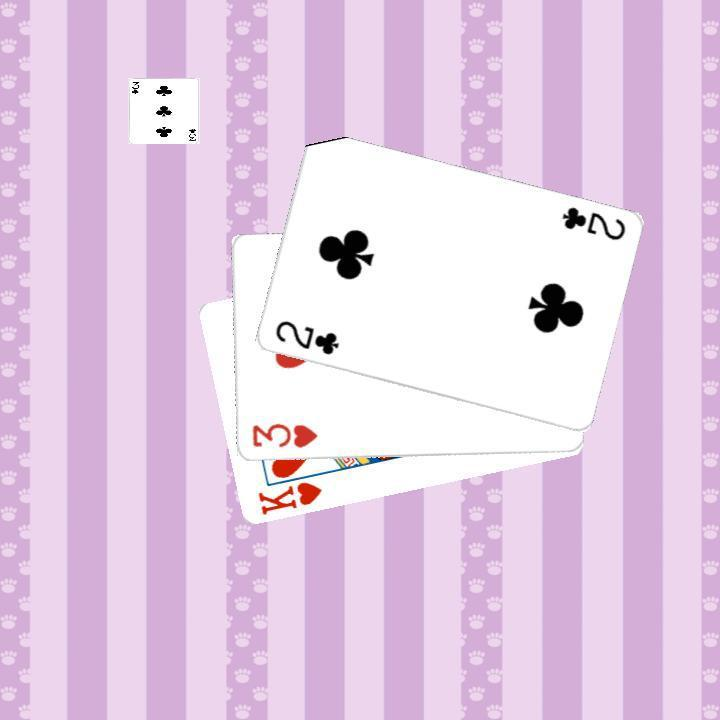2: (270, 316, 340, 357), (557, 203, 627, 243)
3: (247, 419, 319, 450)
K: (253, 478, 324, 518)
